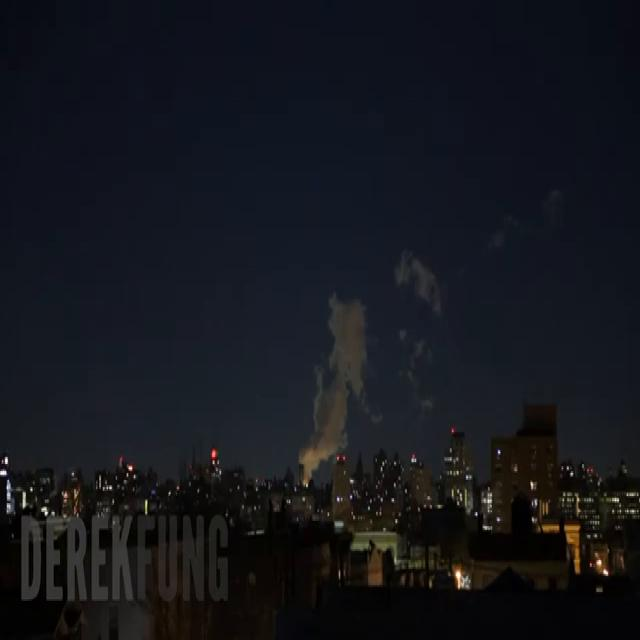smoke: (298, 293, 366, 473)
